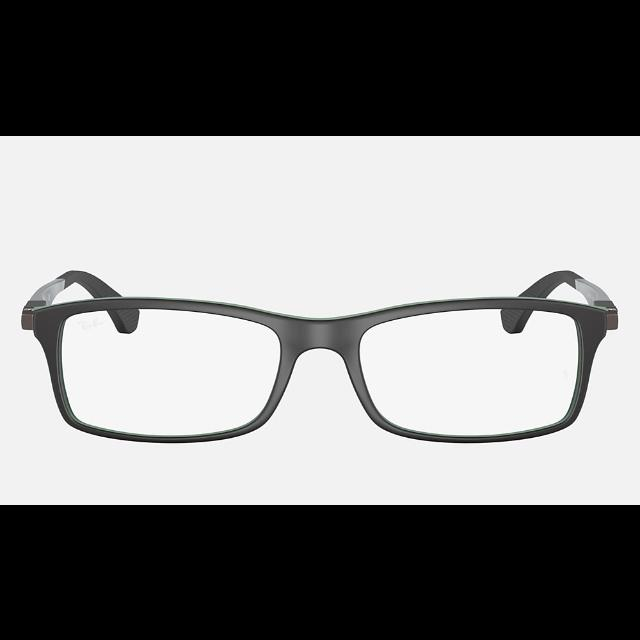glasses: (21, 271, 617, 444)
